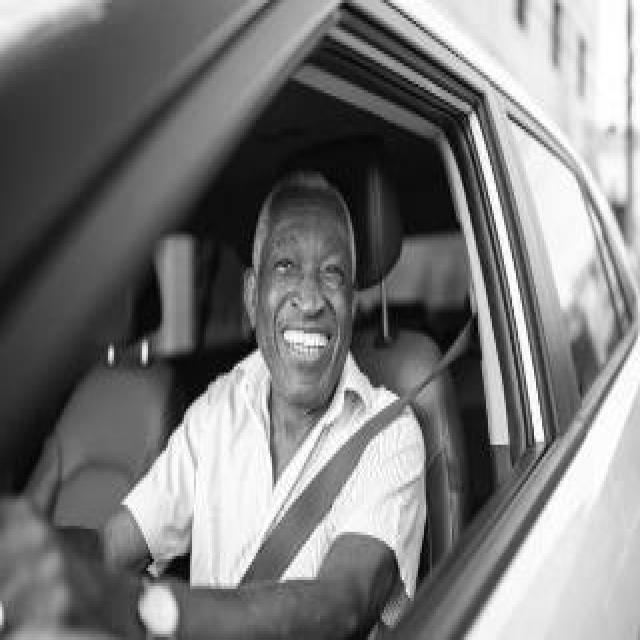Focused: (261, 216, 355, 400)
